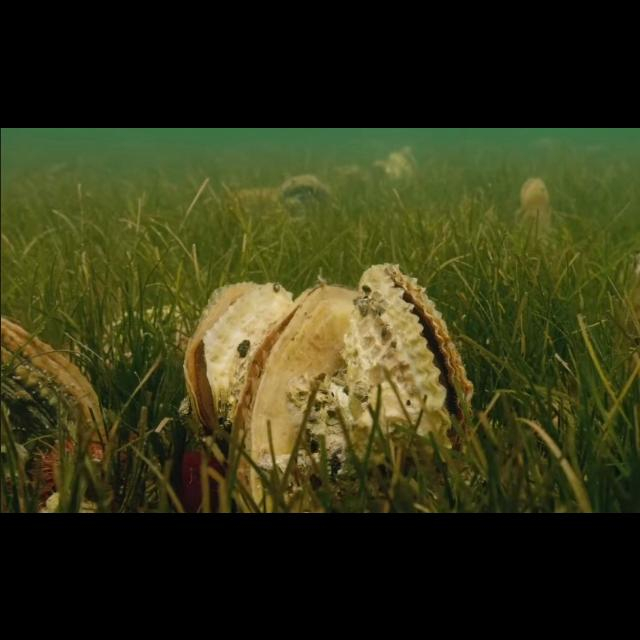Oyster-Closed: (0, 315, 110, 513), (276, 173, 334, 213)
Oyster-Open: (338, 262, 476, 496), (228, 284, 358, 512), (184, 281, 294, 453), (518, 173, 550, 220), (384, 144, 418, 182)
